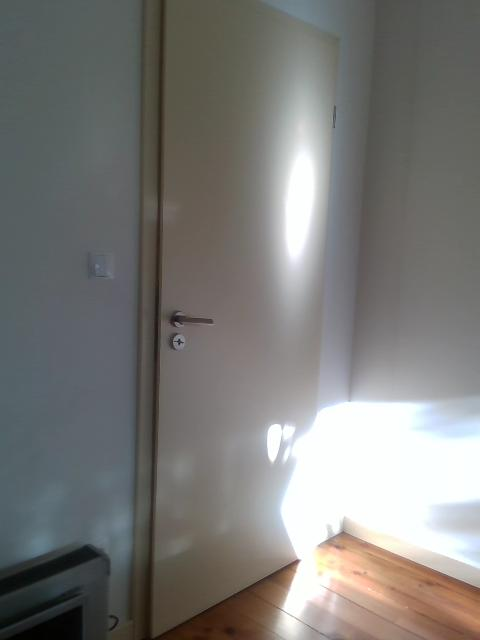door: (150, 3, 338, 639)
